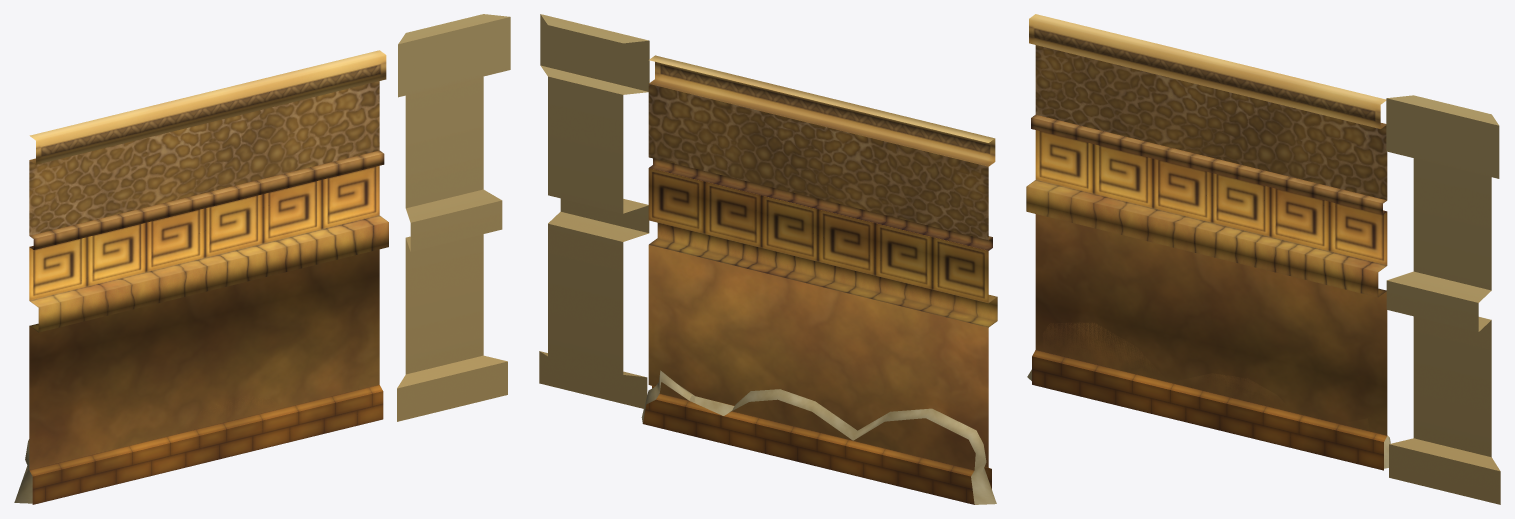
Rendered from RuinWallSmall.FBX.
3 views of the same model, side by side, from view 1: azimuth 30°, elevation 25°; view 2: azimuth 150°, elevation 25°; view 3: azimuth 330°, elevation 25° (orthographic). The views are drawn at different scales.
Visible parts, largest first — view 1: Backup, Broken_WallSmall; view 2: Backup, Broken_WallSmall; view 3: Backup, Broken_WallSmall.
Part boxes in pixels (x1=…): Backup: x1=29, y1=14, x2=510, y2=504; Broken_WallSmall: x1=14, y1=383, x2=378, y2=503; Backup: x1=539, y1=14, x2=997, y2=488; Broken_WallSmall: x1=641, y1=370, x2=996, y2=504; Backup: x1=1026, y1=14, x2=1500, y2=504; Broken_WallSmall: x1=1027, y1=322, x2=1390, y2=468.
Size of the model in its own units: 801 by 601 by 74.15.
